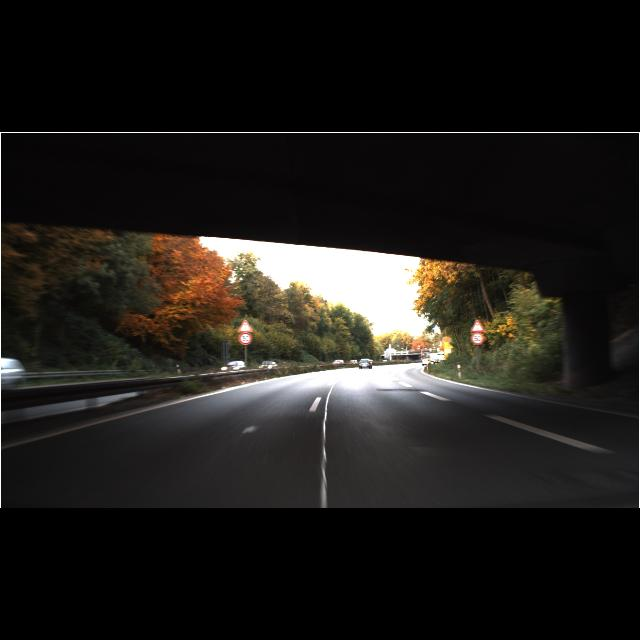danger: (237, 319, 253, 333), (470, 320, 484, 332)
prohibitory: (238, 332, 252, 346), (471, 333, 484, 345)
